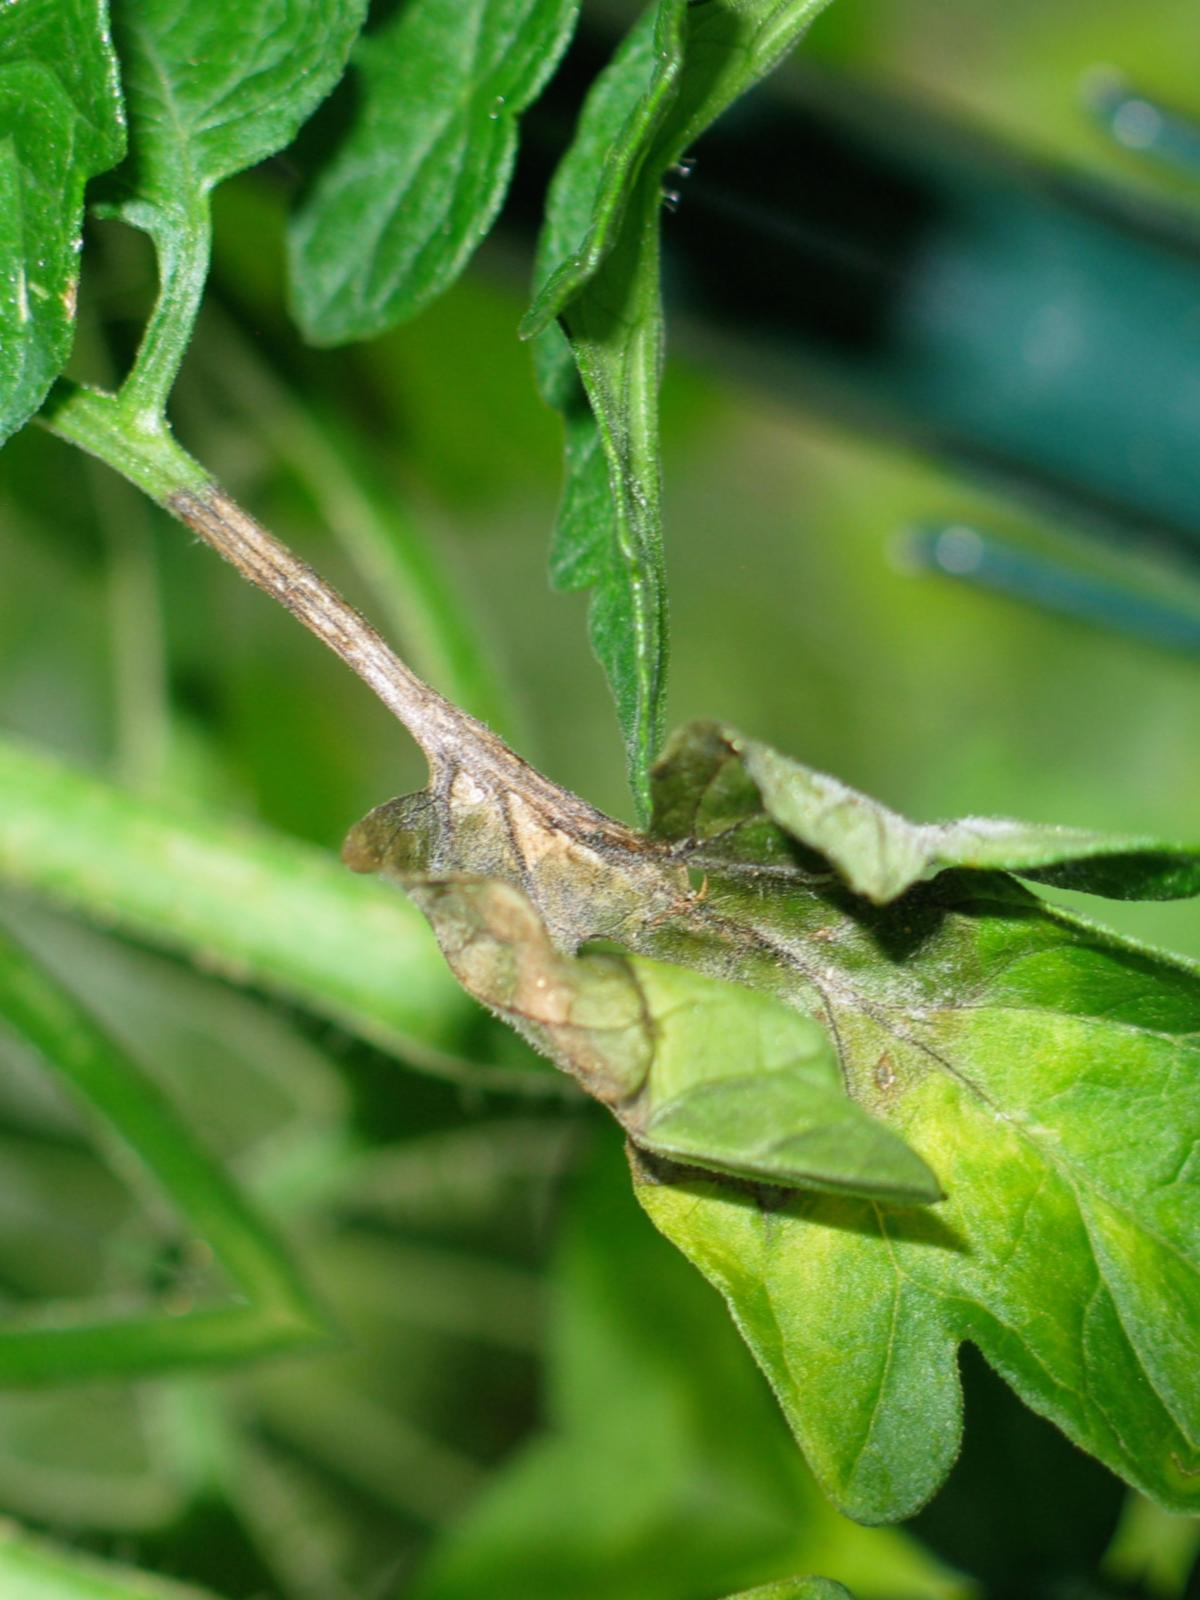Tomato leaf late blight: (126, 528, 1200, 1600)
